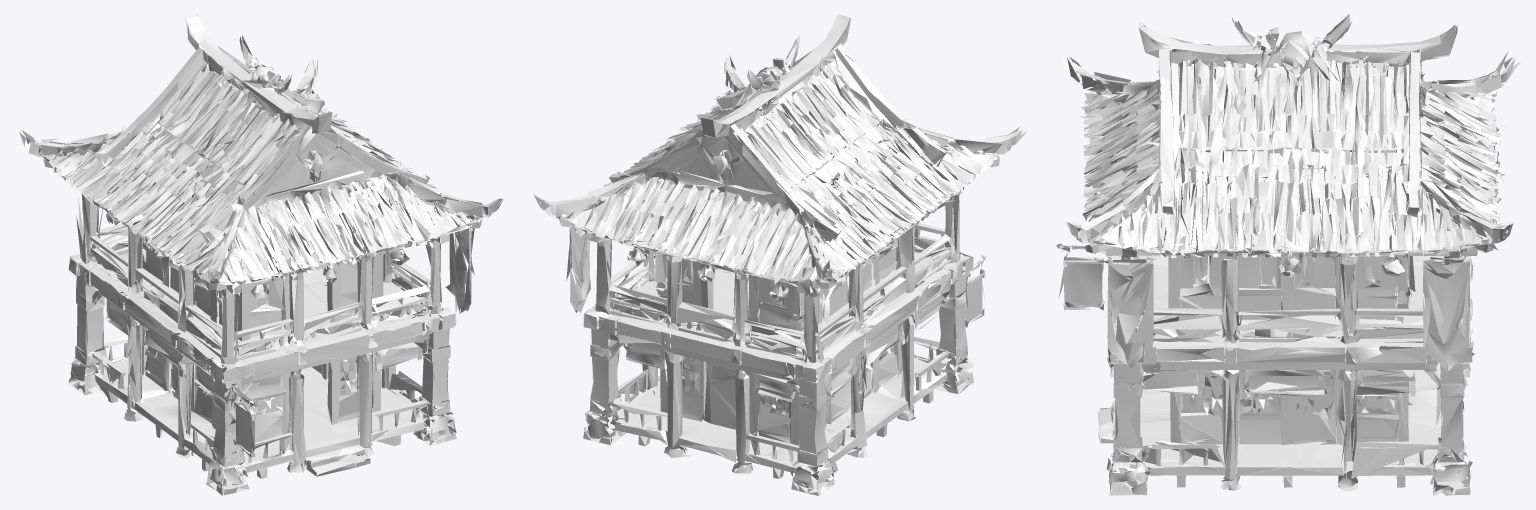
Rendered from house_bal_b_lod1.glb.
3 views of the same model, side by side, from view 1: azimuth 30°, elevation 25°; view 2: azimuth 150°, elevation 25°; view 3: azimuth 270°, elevation 25° (orthographic). The views are drawn at different scales.
Visible parts, largest first — view 1: house_bal_b; view 2: house_bal_b; view 3: house_bal_b.
Boxes of the visible parts, bbox=[...] form: house_bal_b: bbox=[14, 15, 503, 495]; house_bal_b: bbox=[533, 14, 1027, 495]; house_bal_b: bbox=[1056, 14, 1520, 495].
Size of the model in its own units: 7.89 by 9.1 by 9.08.
Materials: 1 (1 with a texture image).
